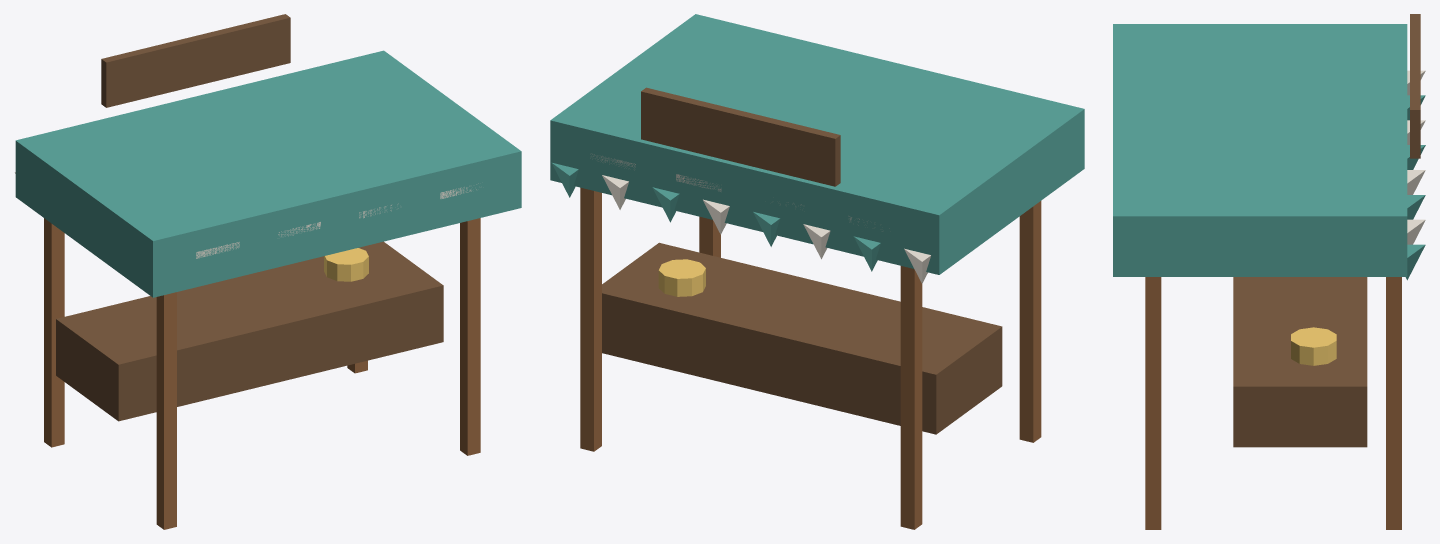
File: xy_isle_stall.glb
The picture shows the model from 3 angles, left to right: view 1: azimuth 30°, elevation 25°; view 2: azimuth 150°, elevation 25°; view 3: azimuth 270°, elevation 25°; orthographic projection. The views are drawn at different scales.
Visible parts, largest first — view 1: Stall; view 2: Stall; view 3: Stall.
Part boxes in pixels (left/top/right/bottom): Stall: left=14, top=14, right=521, bottom=529; Stall: left=550, top=14, right=1084, bottom=529; Stall: left=1113, top=14, right=1425, bottom=529.
Bounding box in the file's own units: 3.4 × 3.18 × 2.34.
